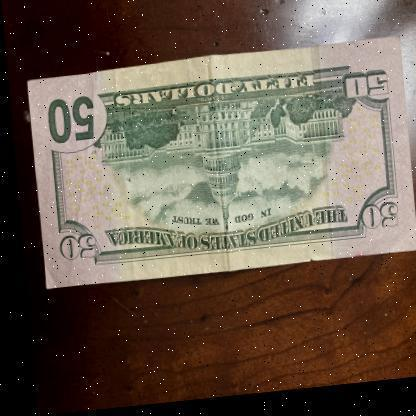dollar_back: (24, 46, 413, 290)
